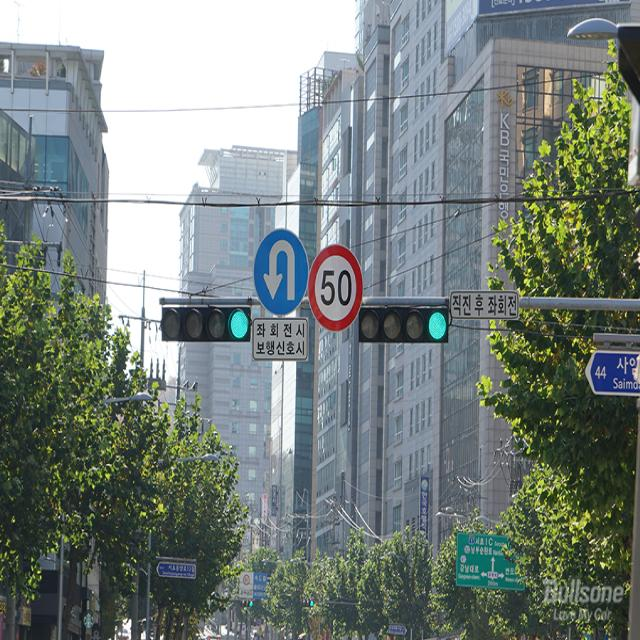Green_light: (162, 300, 252, 347), (360, 306, 447, 348)
